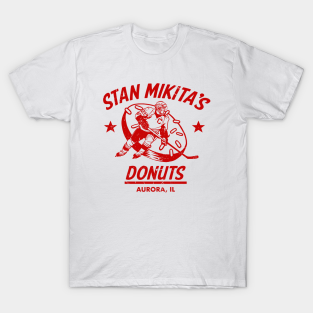design: (101, 80, 213, 194)
